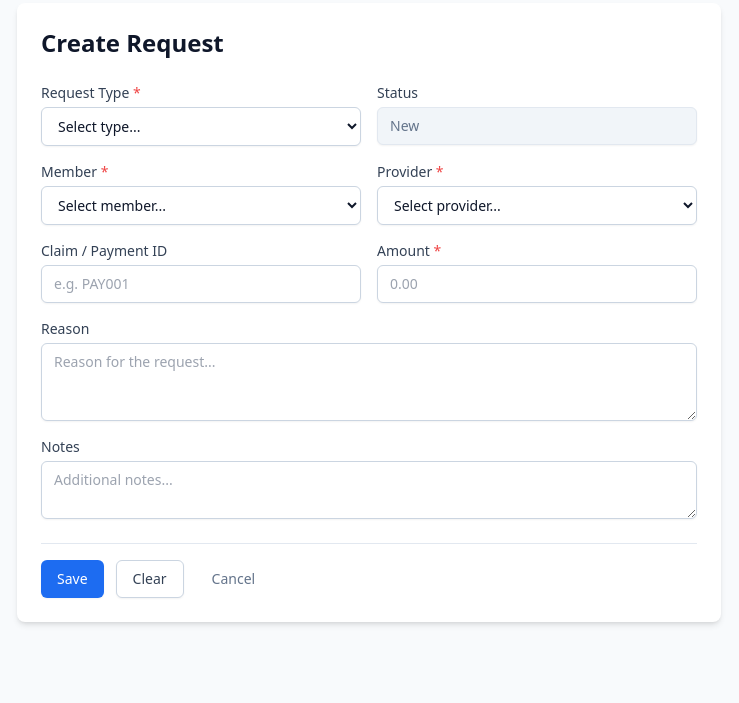
Test case: RequestForm › validation errors on invalid submit › displays error when request type is not selected
Click the button "Save" at coordinates (72, 579), box [41,560,104,598]
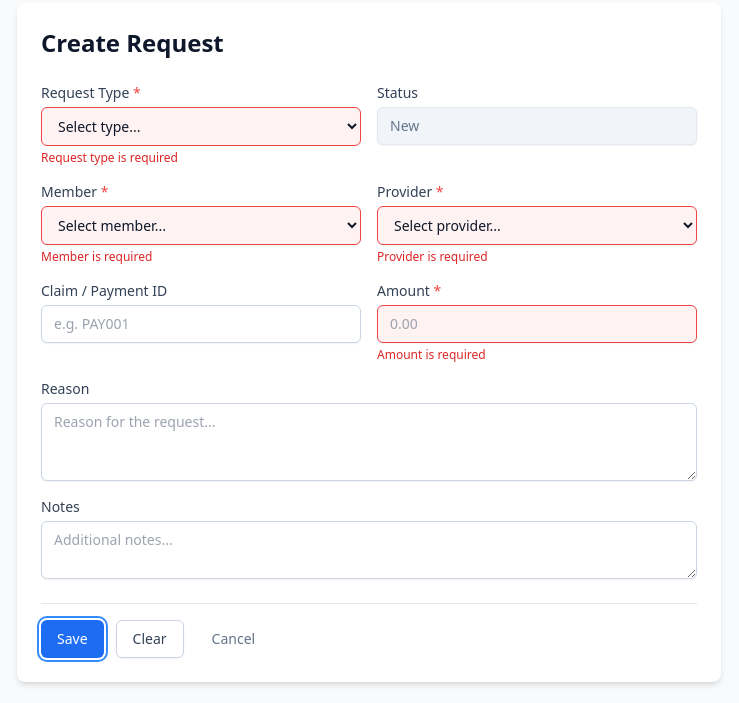
Now the text "Request type is required" is shown, box [41,149,178,166]
